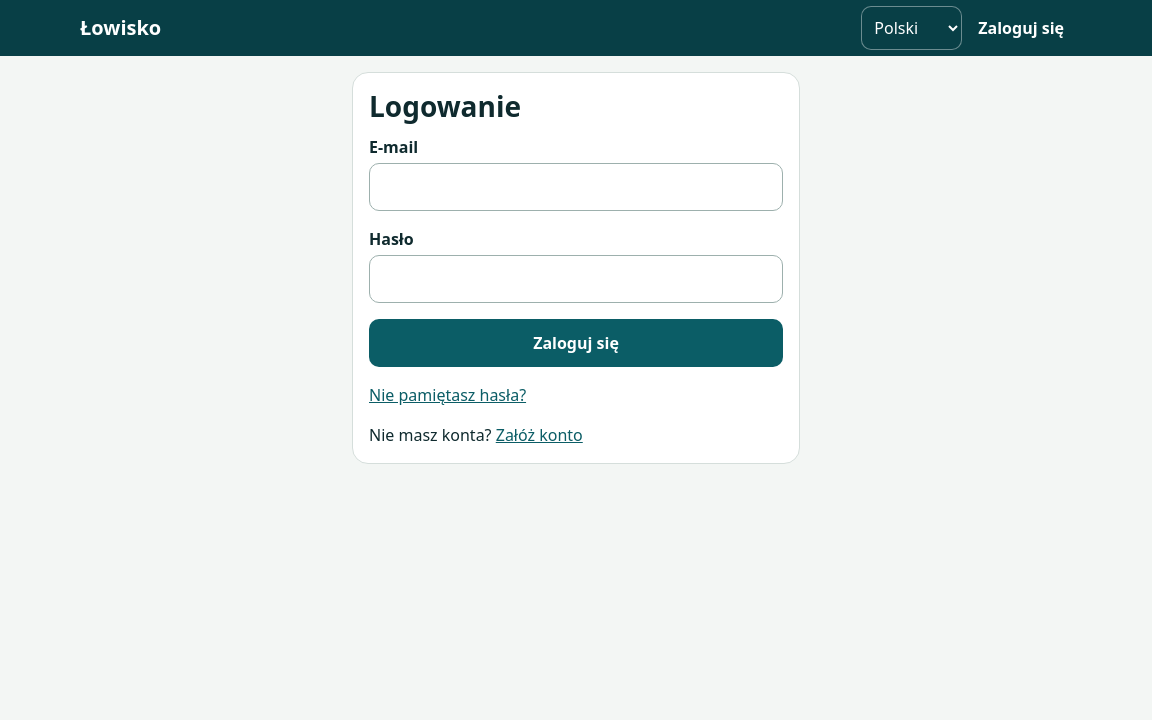
Test: login › checks the fields before sending anything
This screenshot has width=1152, height=720.
Type "not-an-email" into the field labelled "E-mail" at (576, 187), box [369,163,783,211]
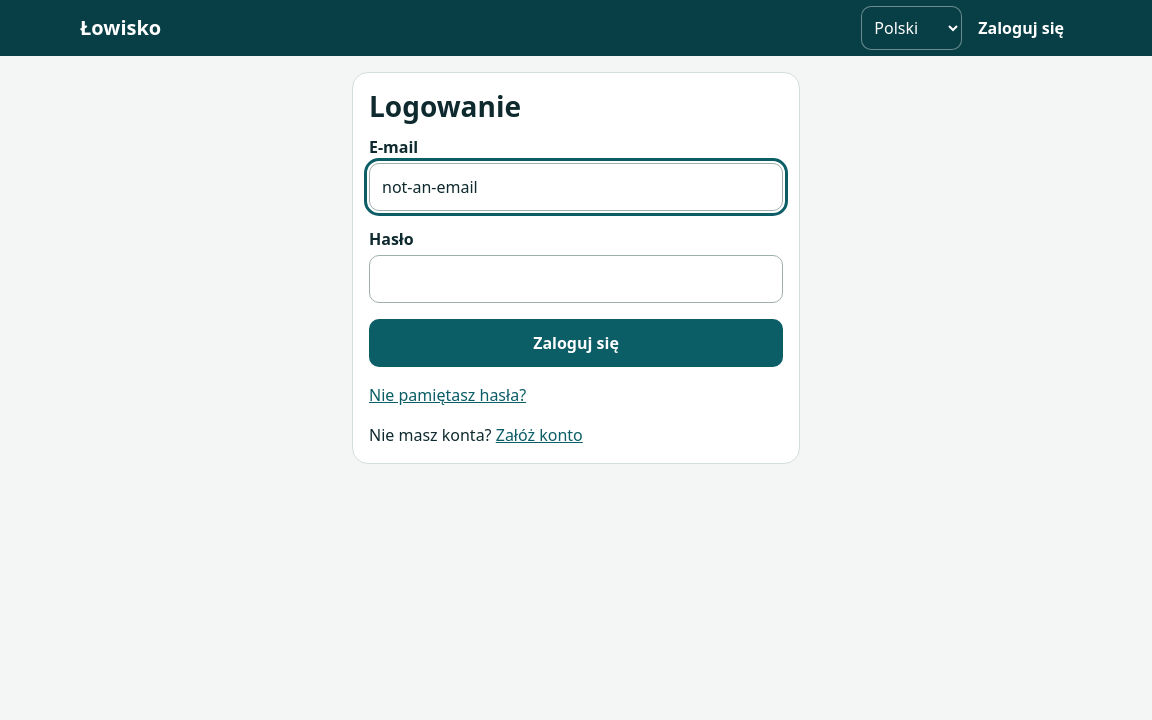
Click the button "Zaloguj się" at (576, 343), box [369,319,783,367]
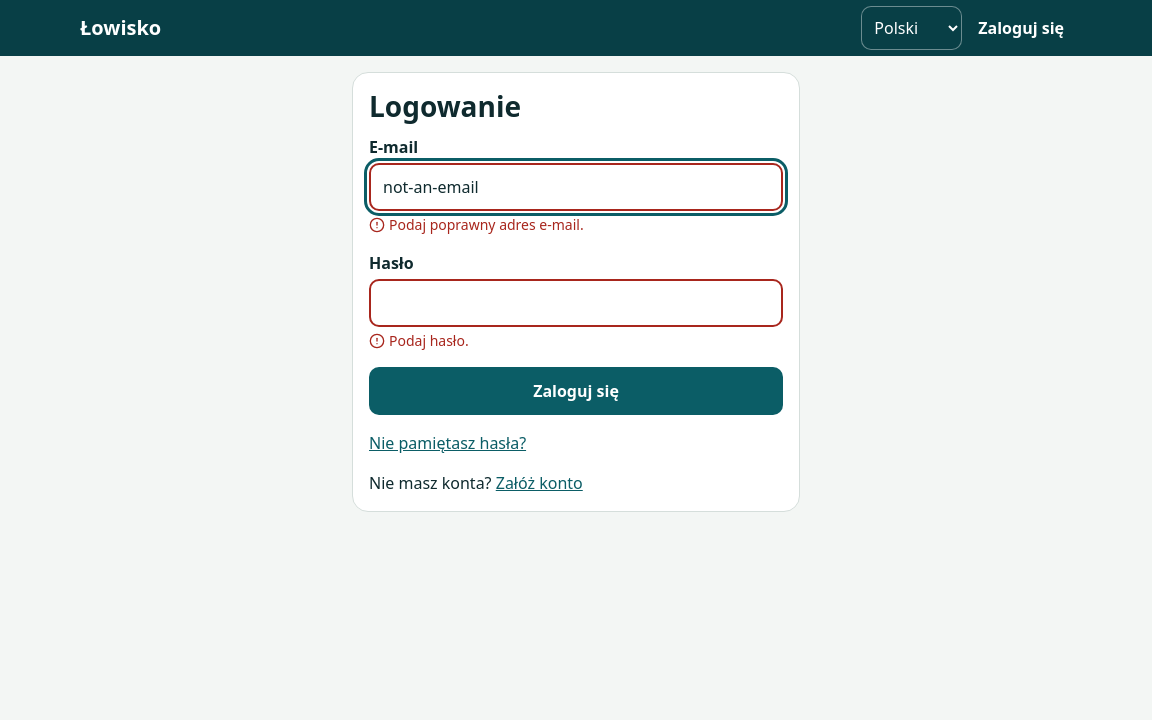
Result: the text "Podaj poprawny adres e-mail." is shown at [369,215,584,234]
Result: the text "Podaj hasło." is shown at [369,331,469,350]
